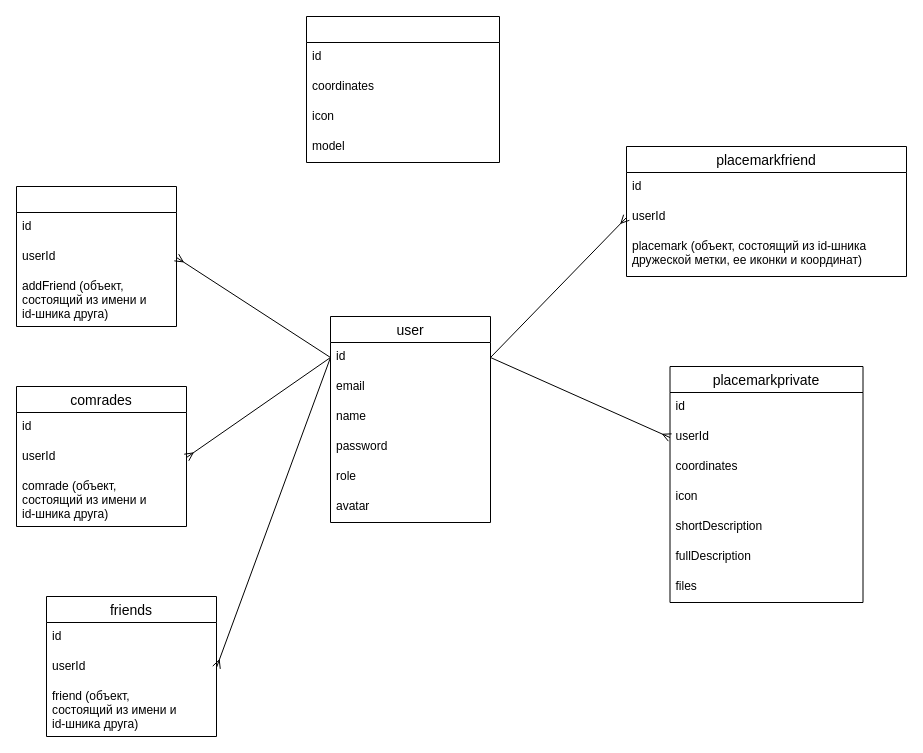
Image size: 923x753. Some labels were removed from this diagram. The box of each missing label's shape, as (x1, y1, x2, y2) in pixels:
addfriends: (16, 186, 176, 326)
placemark: (306, 16, 500, 162)
